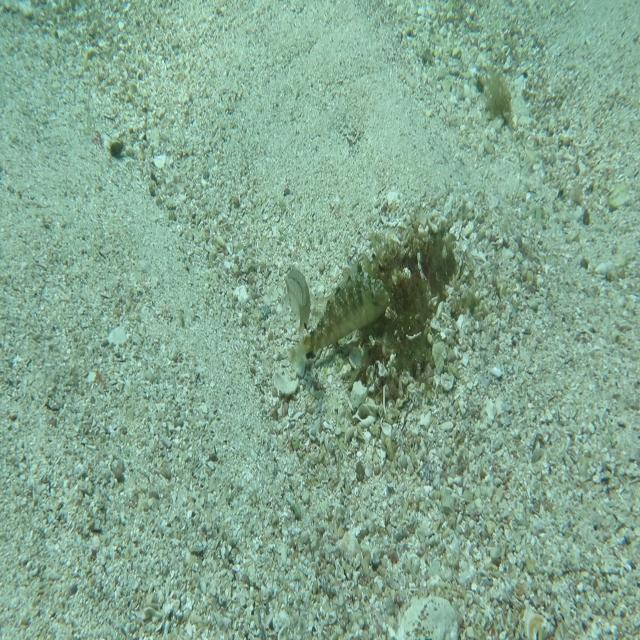LF: (285, 255, 390, 378)
core_nest: (402, 236, 454, 272)
female: (280, 267, 312, 339)
nest: (348, 205, 468, 404)
